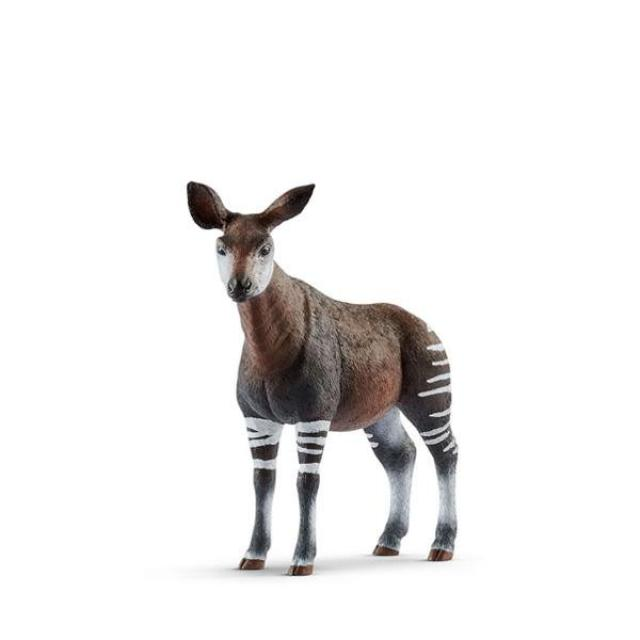Okapi: (176, 172, 468, 576)
